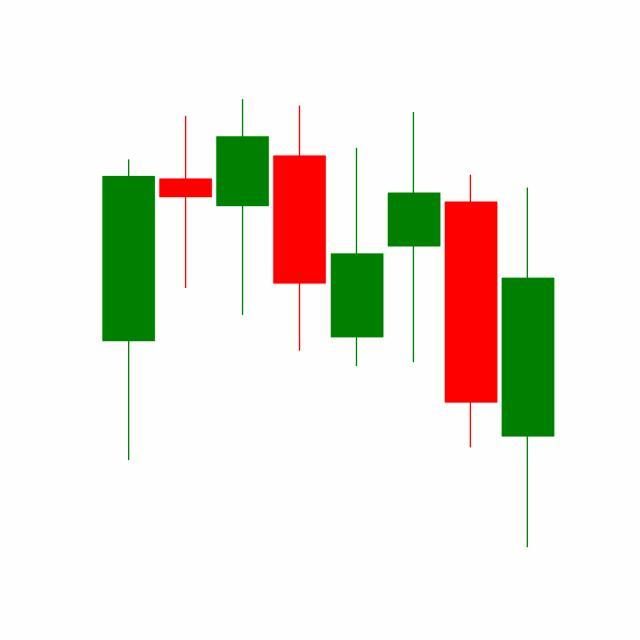Evening Star: (328, 109, 500, 452)
